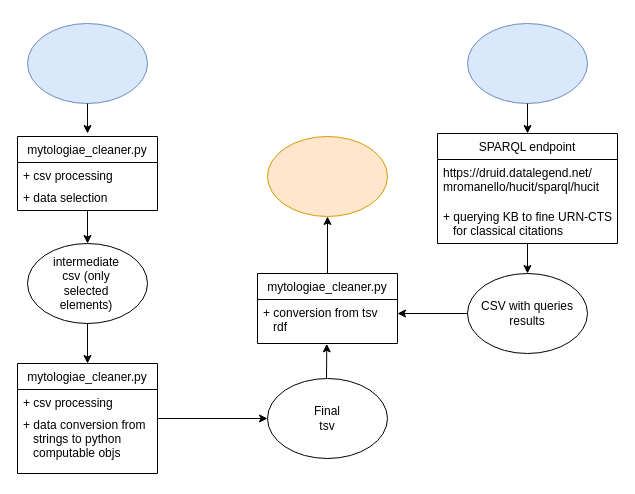
The diagram is 635 pixels wide and 494 high, and some of its shapes have lost their labels. The shapes that lost their labels are listed below. From the top down, each one's box as (x1, y1, x2, y2) in pixels, then its label:
(26, 22, 148, 104): mythologiae worpress csv
(466, 22, 588, 104): Hucit KB
(266, 136, 388, 216): RDF
